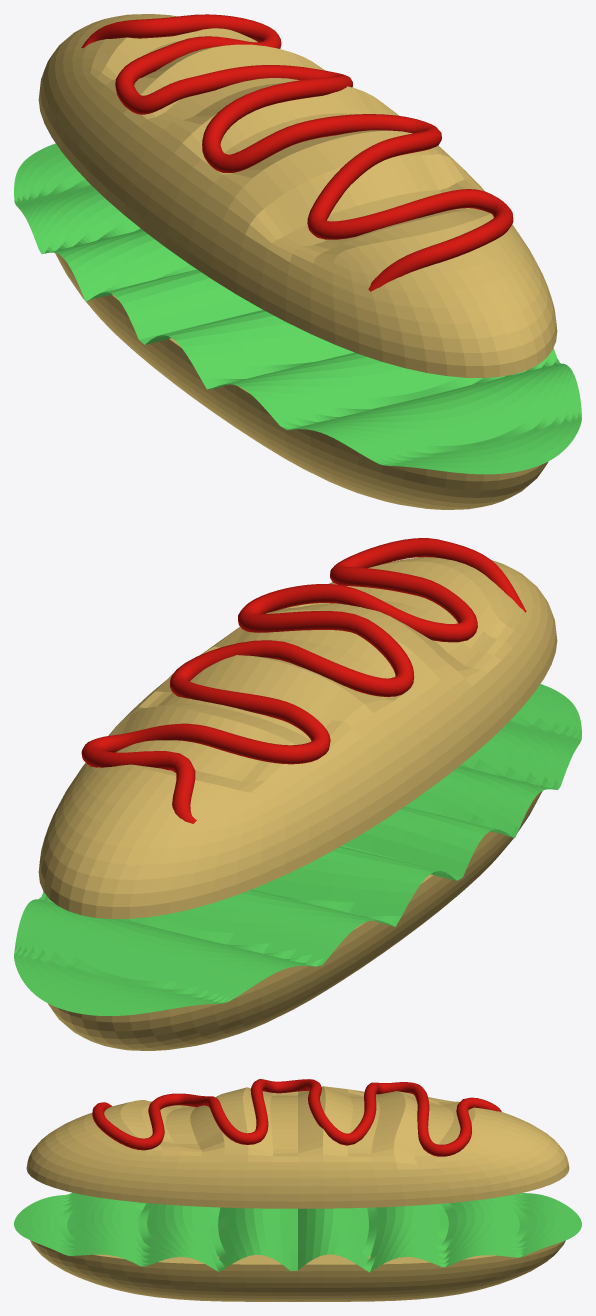
The model's file is buleczki.fbx.
3 views of the same model, one above another, from view 1: azimuth 30°, elevation 25°; view 2: azimuth 150°, elevation 25°; view 3: azimuth 270°, elevation 25° (orthographic). The views are drawn at different scales.
Parts seen in each view (by area): view 1: Cube.001, Plane, BezierCurve, Cube; view 2: Cube.001, Plane, BezierCurve, Cube; view 3: Cube.001, Plane, Cube, BezierCurve.
Part boxes in pixels (x1,y1,x2,y2): Cube.001: (38, 14, 557, 377); Plane: (14, 143, 581, 474); BezierCurve: (81, 14, 513, 291); Cube: (55, 253, 548, 509); Cube.001: (38, 557, 557, 918); Plane: (14, 684, 581, 1015); BezierCurve: (81, 538, 526, 823); Cube: (48, 791, 542, 1050); Cube.001: (26, 1086, 569, 1208); Plane: (14, 1192, 581, 1272); Cube: (30, 1231, 565, 1301); BezierCurve: (92, 1079, 501, 1156).
Bounding box in the file's own units: 383 × 362 × 946.
